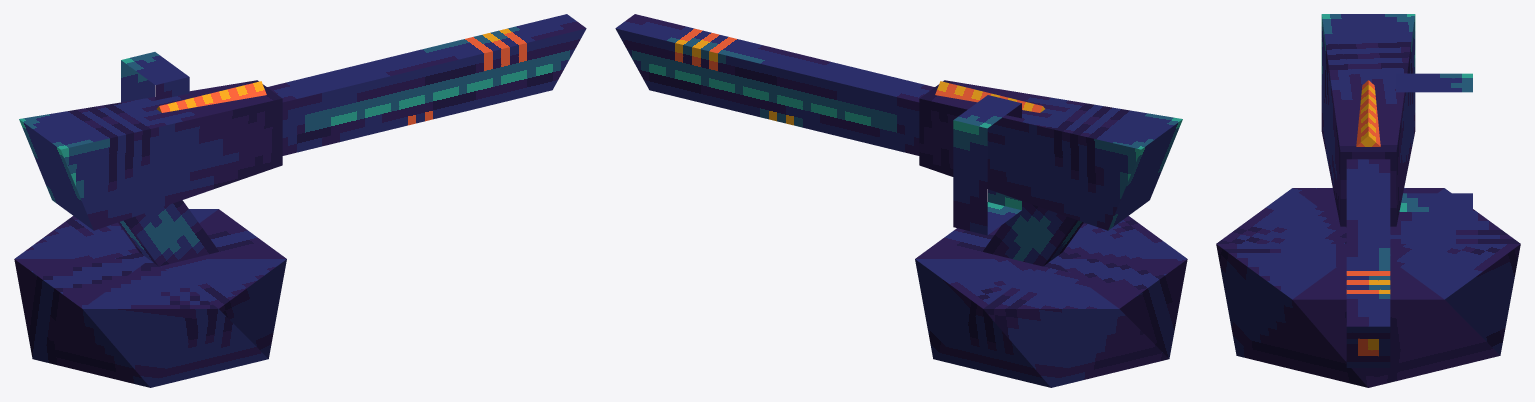
The model's file is SENTRY_RG.gltf.
The picture shows the model from 3 angles, left to right: view 1: azimuth 30°, elevation 25°; view 2: azimuth 150°, elevation 25°; view 3: azimuth 270°, elevation 25°; orthographic projection. The views are drawn at different scales.
Visible parts, largest first — view 1: cuboid (×3), base, frame; view 2: cuboid (×3), base, frame; view 3: base, cuboid (×3), frame.
Part boxes in pixels (<box>): cuboid (×3): <box>19,14,586,230</box>; base: <box>14,200,286,387</box>; frame: <box>121,52,189,102</box>; cuboid (×3): <box>615,14,1182,230</box>; base: <box>915,201,1187,387</box>; frame: <box>953,95,1021,235</box>; base: <box>1216,188,1520,387</box>; cuboid (×3): <box>1321,14,1415,367</box>; frame: <box>1396,73,1472,211</box>.
Size of the model in its own units: 3.99 by 1.63 by 1.73.
Materials: 1 (1 with a texture image).
